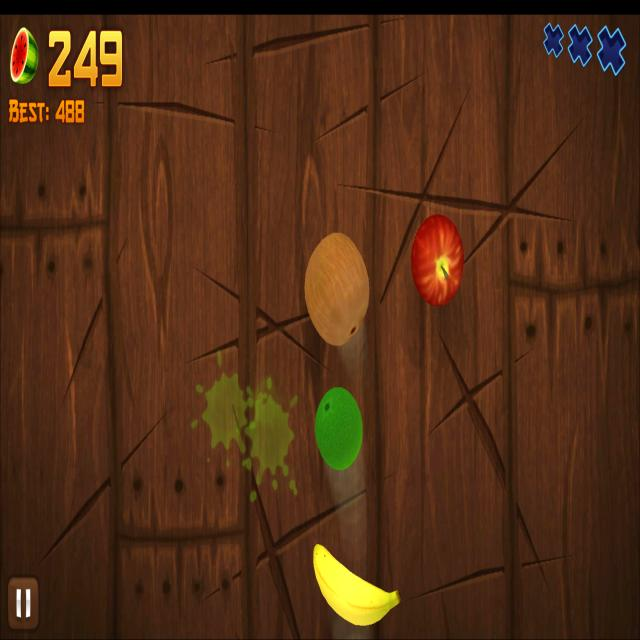fruit: (312, 541, 401, 628), (304, 231, 370, 348), (410, 212, 465, 308), (314, 386, 364, 472)
